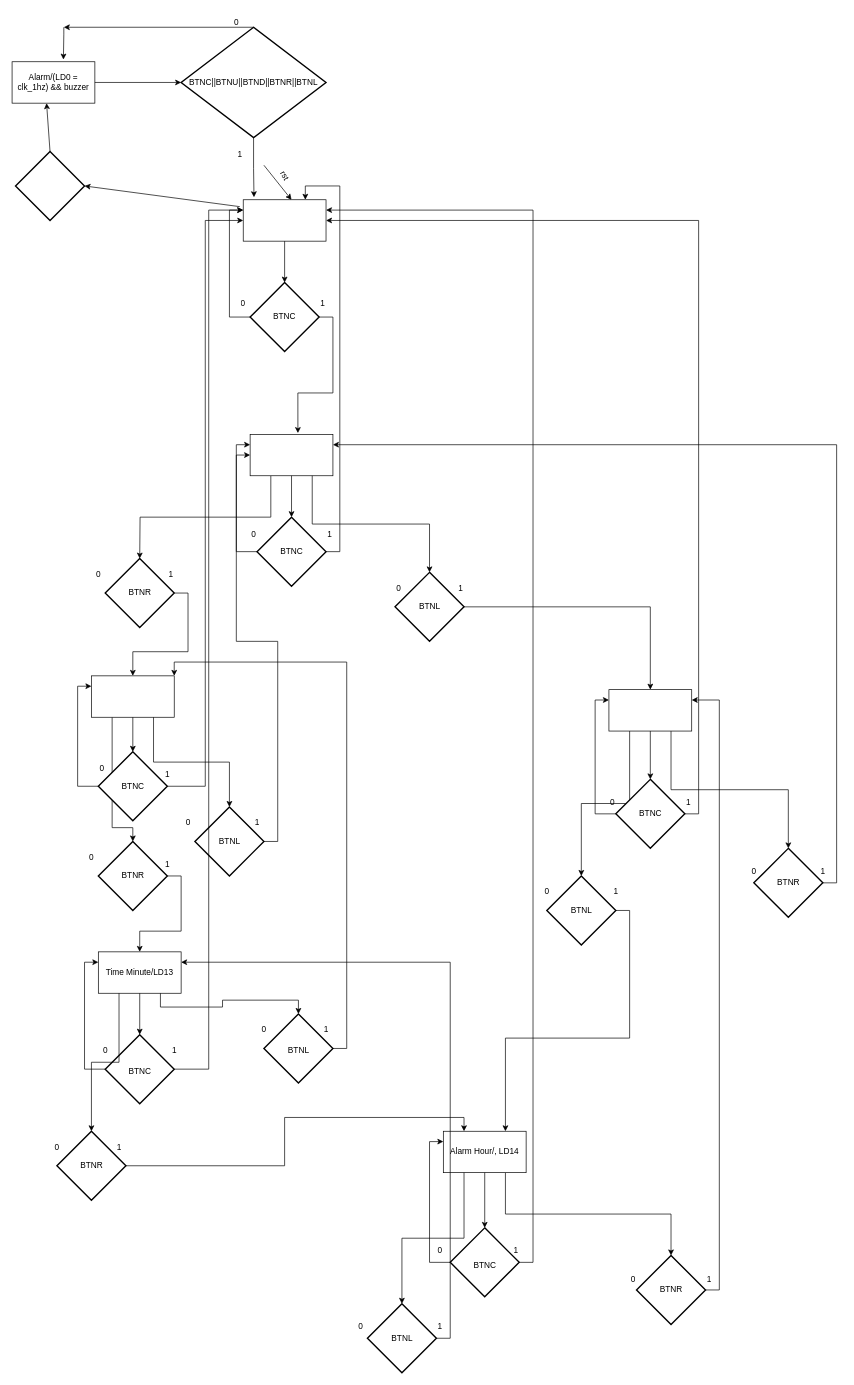
This 854x1385 diagram has some shape labels left out. The shapes that lost their labels are listed below. From the top down, each one's box as (x1, y1, x2, y2) in pixels, then its label:
(14, 150, 85, 221): Time==Alarm Time ?
(243, 199, 326, 241): Clock/7-Segment display:Clock
(249, 434, 333, 476): Adjust/LD0
(91, 675, 174, 717): Time hour/LD12
(608, 689, 692, 731): Alarm minute/LD15
